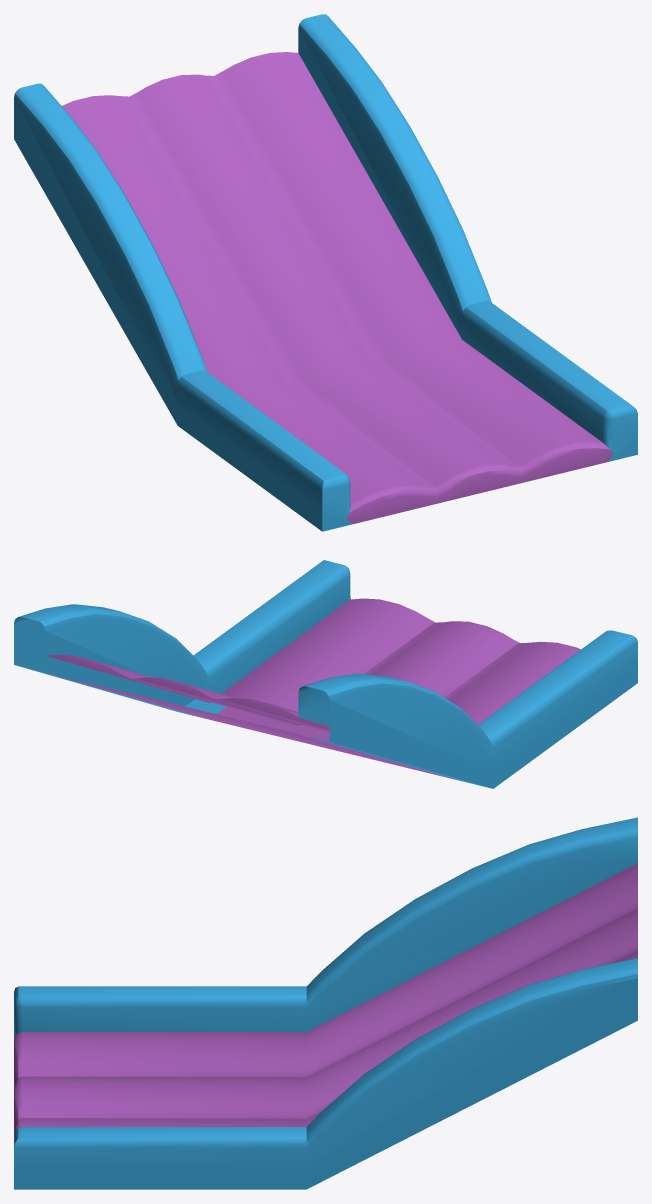
File: Slide2_Start.fbx
The picture shows the model from 3 angles, top to bottom: view 1: azimuth 30°, elevation 25°; view 2: azimuth 150°, elevation 25°; view 3: azimuth 270°, elevation 25°; orthographic projection.
Visible parts, largest first — view 1: Slide2_Start; view 2: Slide2_Start; view 3: Slide2_Start.
Boxes of the visible parts, x1,y1,x2,y2 form: Slide2_Start: (14,14,637,531); Slide2_Start: (14,560,637,788); Slide2_Start: (14,817,637,1189).
Bounding box in the file's own units: 2.48 × 1.63 × 4.2.
